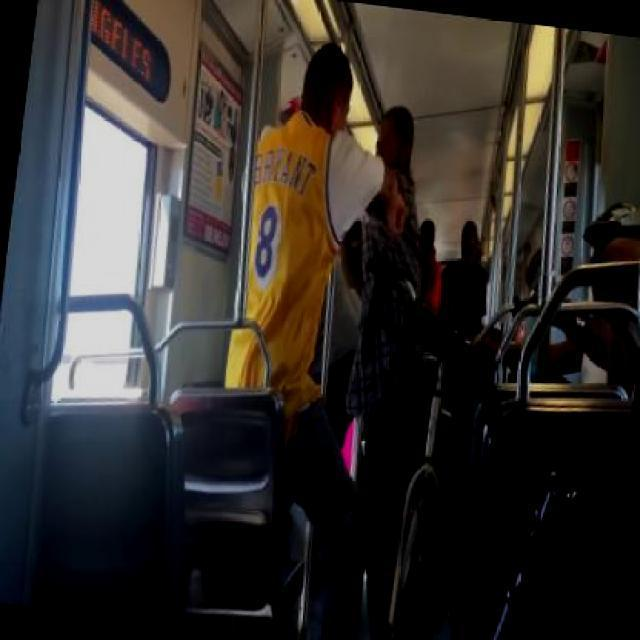fight: (218, 32, 462, 402)
